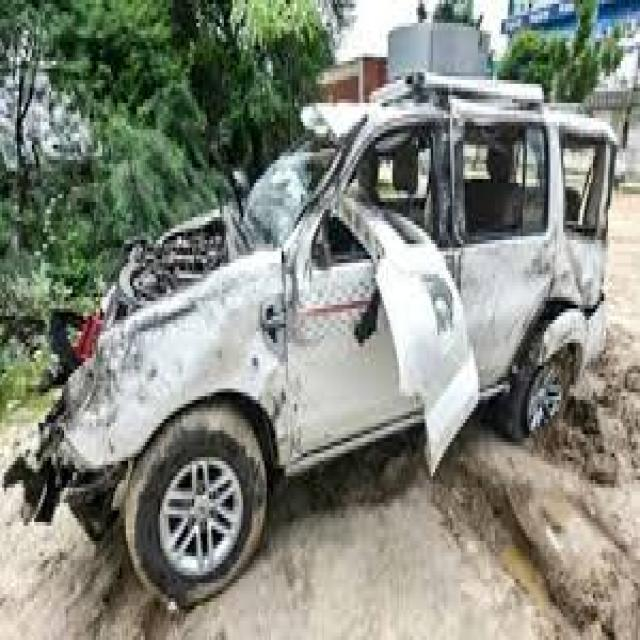severe: (10, 184, 310, 470), (336, 143, 493, 480)
